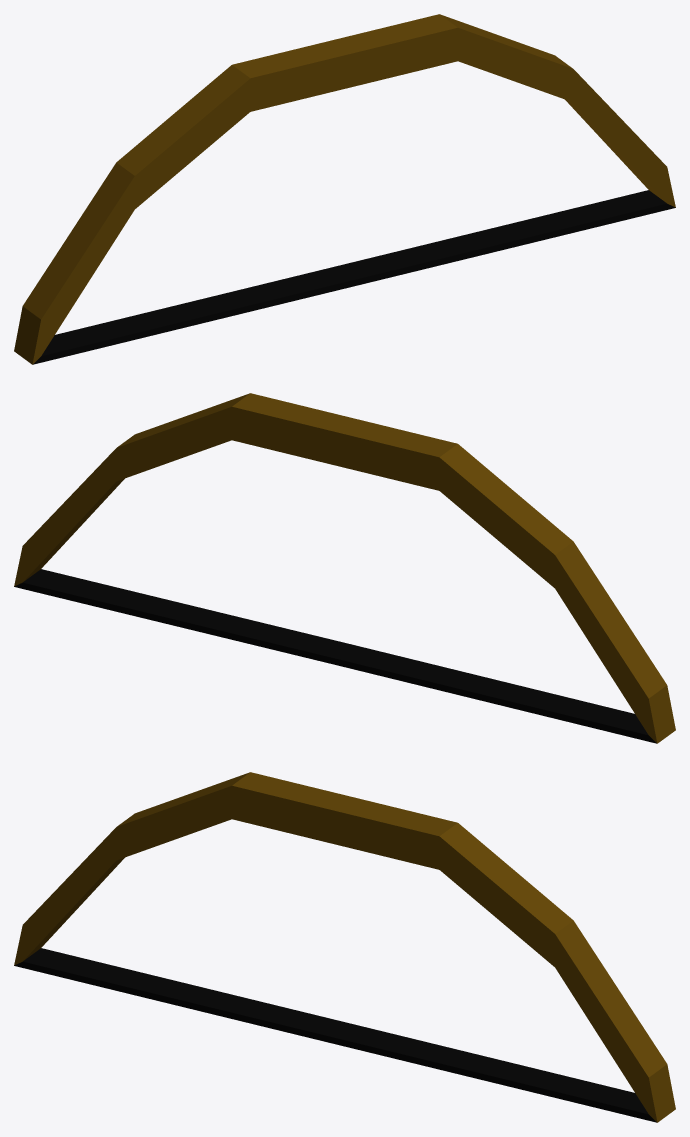
File: Lyk.fbx
3 renders of one model, top to bottom at view 1: azimuth 30°, elevation 25°; view 2: azimuth 150°, elevation 25°; view 3: azimuth 330°, elevation 25°, orthographic.
Visible parts, largest first — view 1: Cube; view 2: Cube; view 3: Cube.
Part boxes in pixels (box(x1,y1,x2,y2)): Cube: box(14, 14, 675, 364); Cube: box(14, 393, 675, 743); Cube: box(14, 772, 675, 1122).
Bounding box in the file's own units: 4008 × 1389 × 202.
